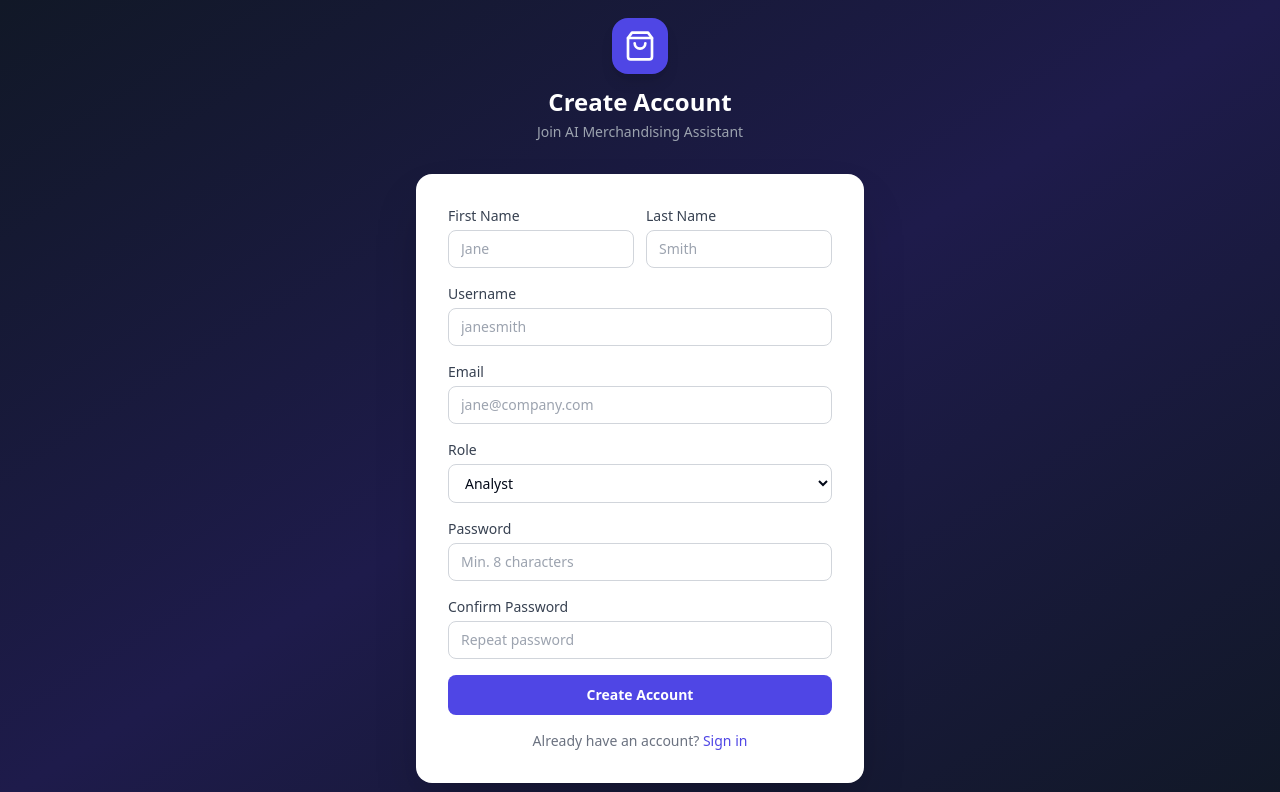
Test case: Register Page › shows password mismatch error
The width and height of the screenshot is (1280, 792).
Type "testuser" into the field with placeholder "janesmith" at (640,326), box [448,308,832,346]
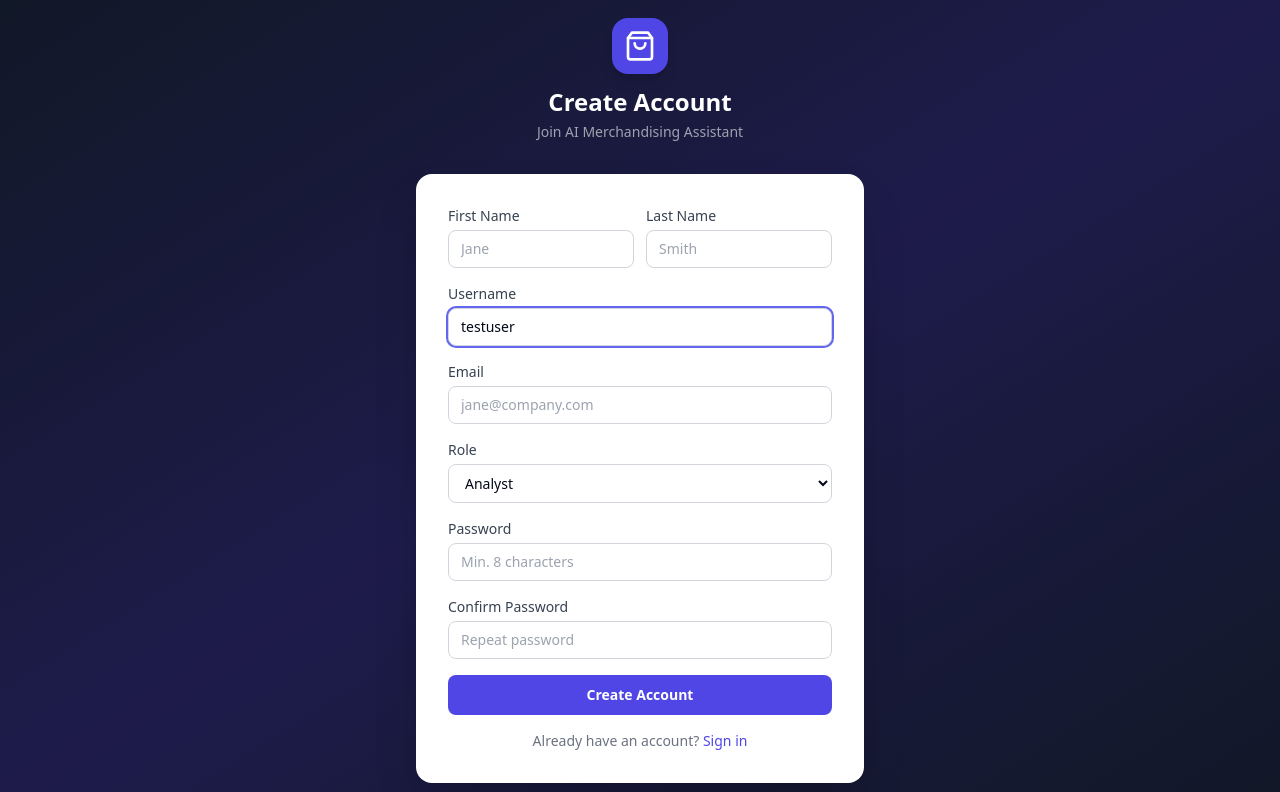
Type "test@test.com" into the field with placeholder "jane@company.com" at (640,404), box [448,386,832,424]
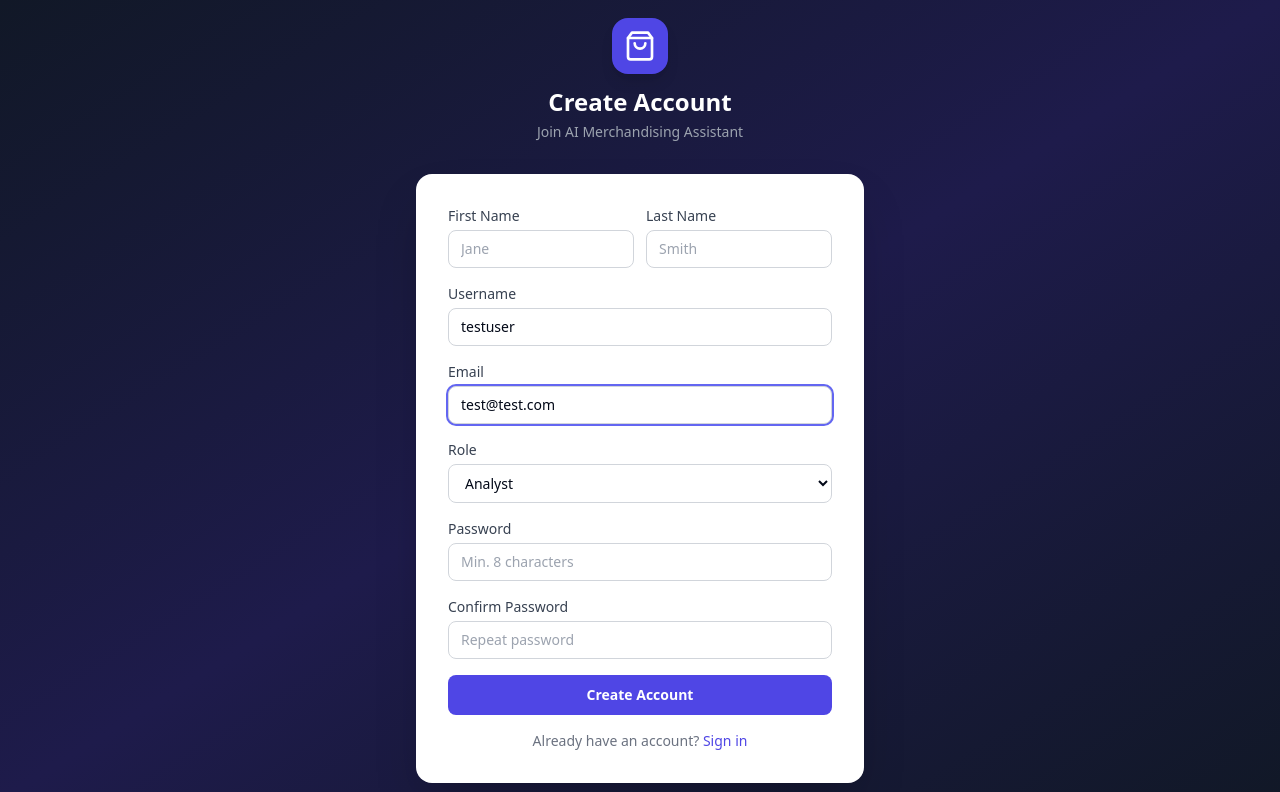
Type "password1" into the password field with placeholder "Min. 8 characters" at (640,562), box [448,542,832,580]
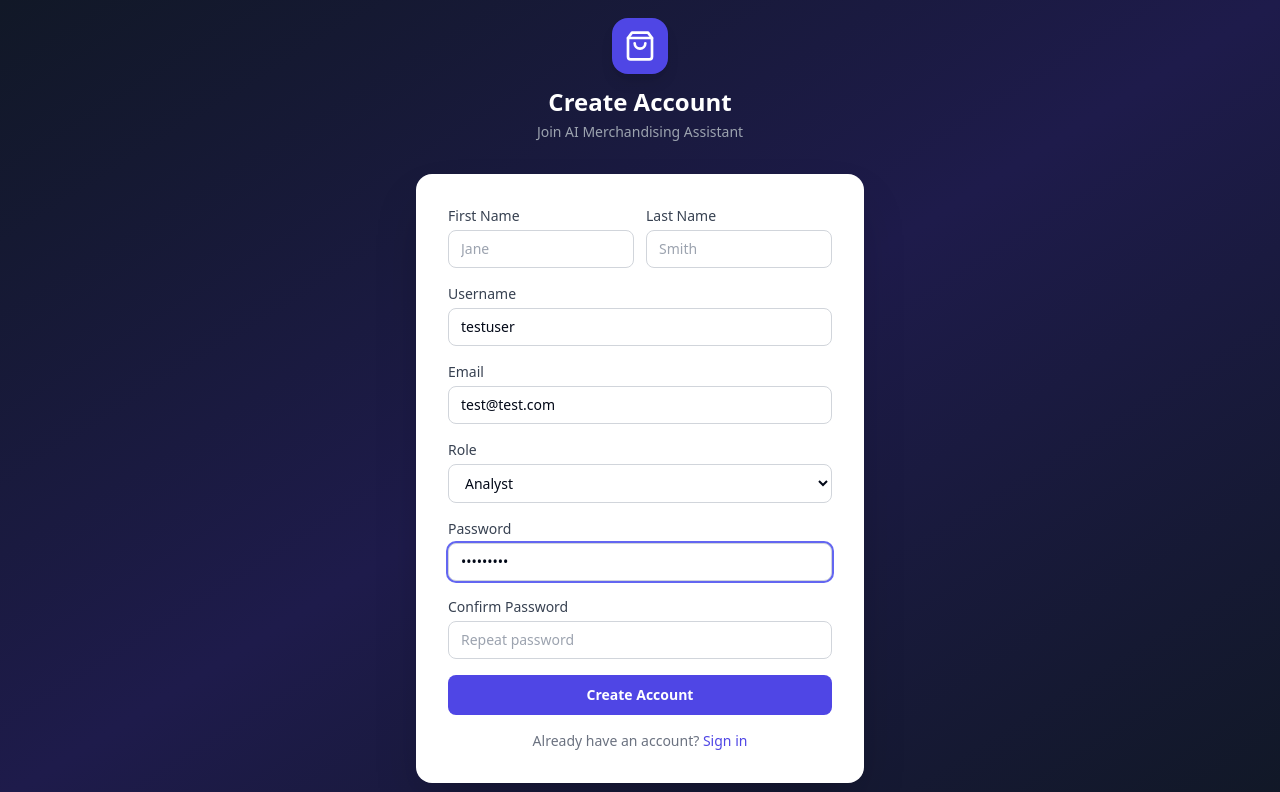
Type "password2" into the password field with placeholder "Repeat password" at (640,640), box [448,620,832,658]
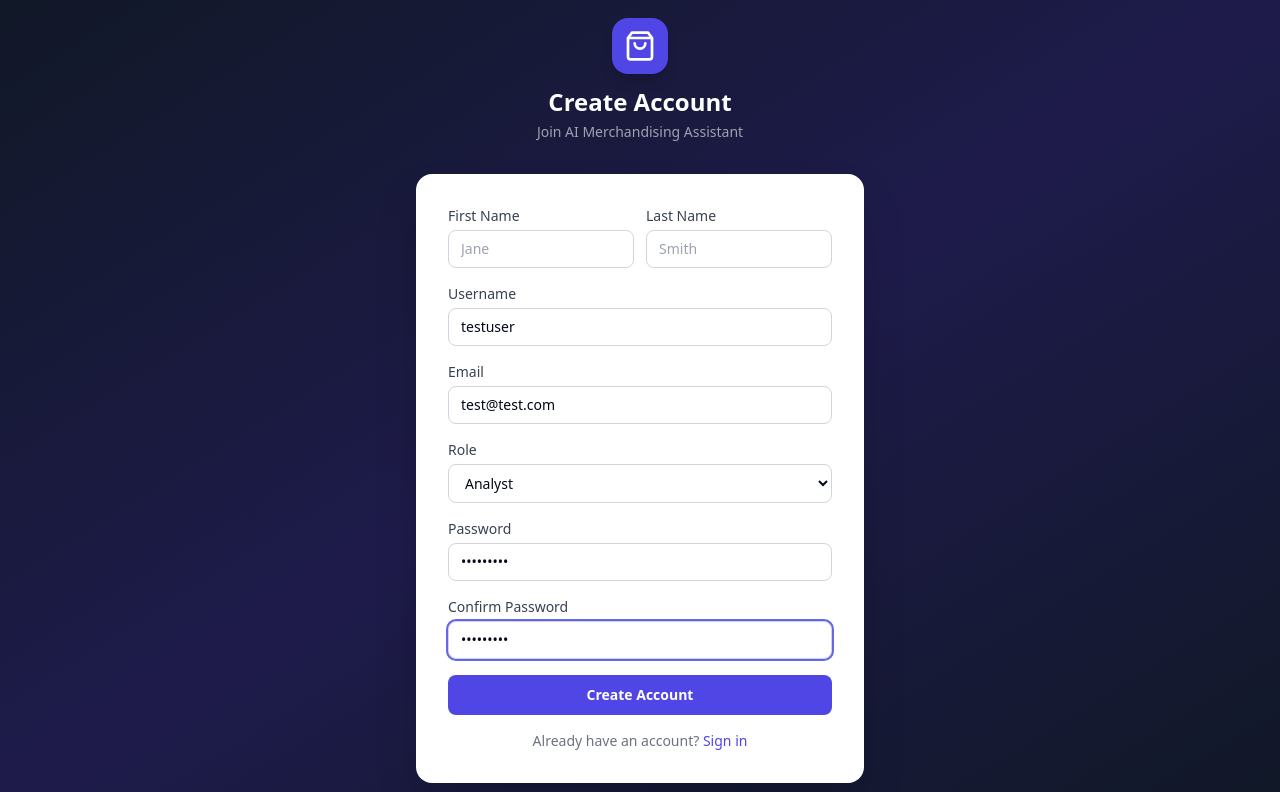
Click the button "Create Account" at (640,694), box [448,674,832,714]
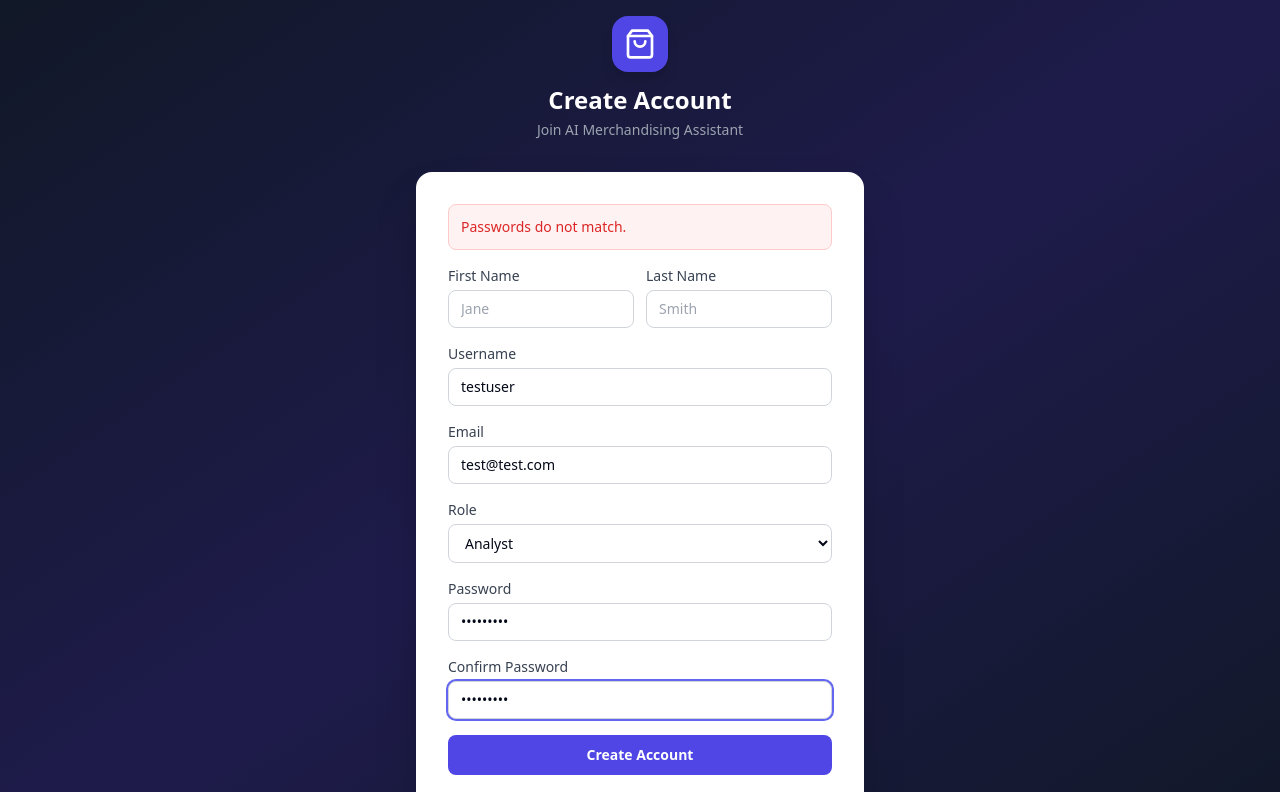
Result: the text "Passwords do not match." is shown at [448,204,832,250]
